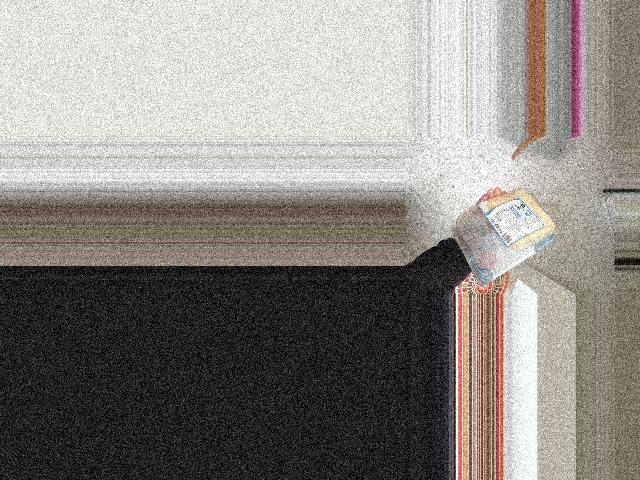cheese: (453, 187, 561, 278)
